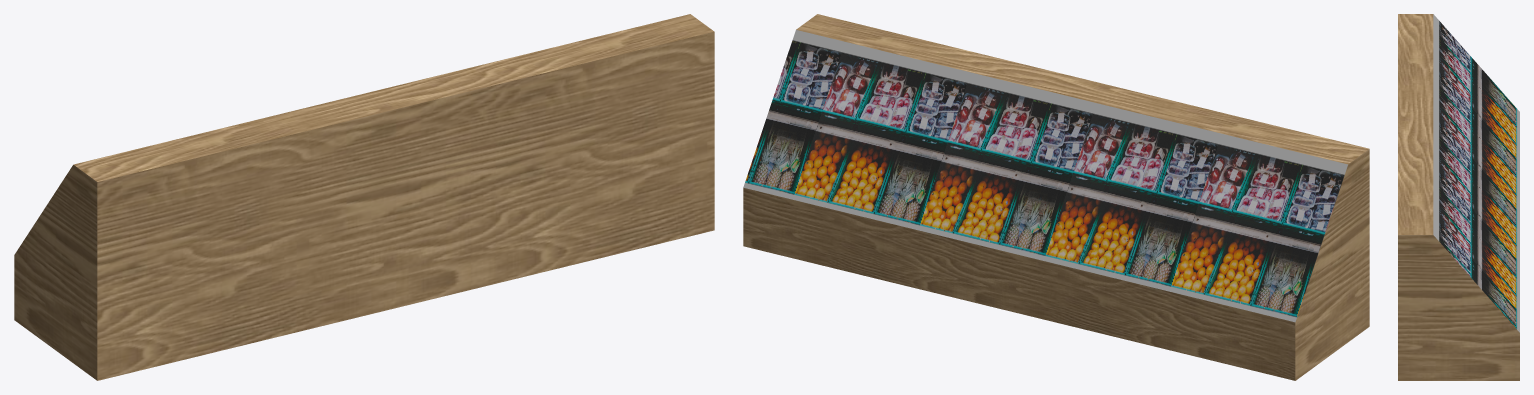
File: orange_stand.glb
The picture shows the model from 3 angles, left to right: view 1: azimuth 30°, elevation 25°; view 2: azimuth 150°, elevation 25°; view 3: azimuth 270°, elevation 25°; orthographic projection. The views are drawn at different scales.
Visible parts, largest first — view 1: Librero.019; view 2: Librero.019; view 3: Librero.019.
Part boxes in pixels (x1=…): Librero.019: x1=14, y1=14, x2=714, y2=380; Librero.019: x1=743, y1=14, x2=1369, y2=380; Librero.019: x1=1398, y1=14, x2=1519, y2=380.
Bounding box in the file's own units: 7.08 × 2.18 × 1.65.
Materials: 2 (2 with a texture image).
